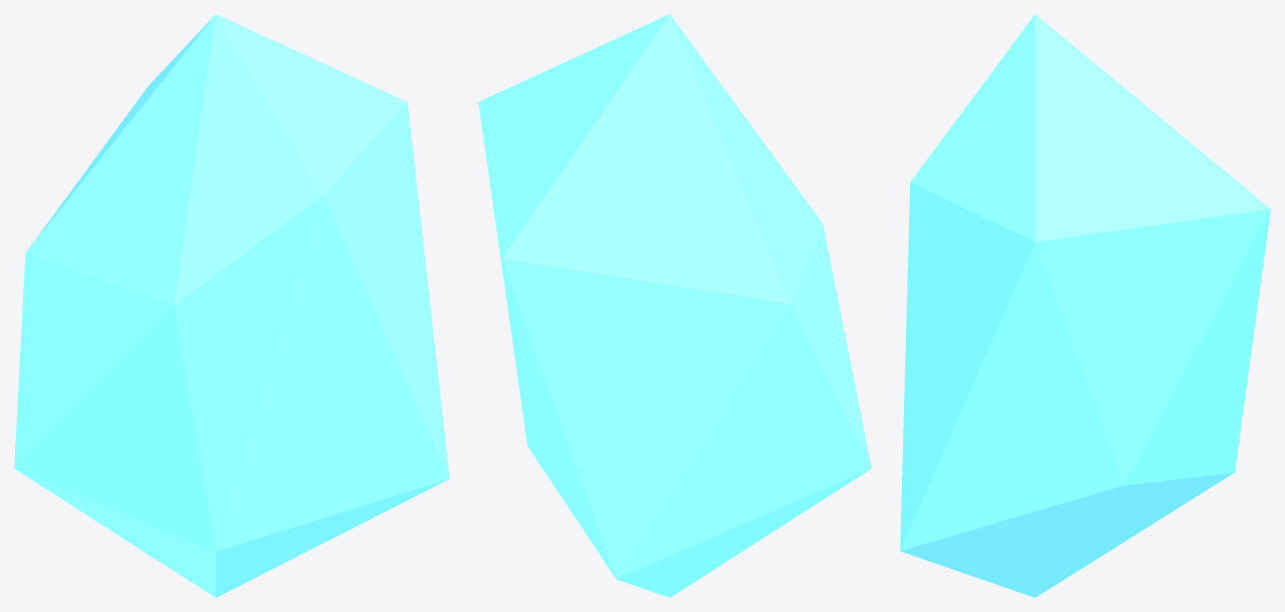
The model's file is core_fragment_1.glb.
The picture shows the model from 3 angles, left to right: view 1: azimuth 30°, elevation 25°; view 2: azimuth 150°, elevation 25°; view 3: azimuth 270°, elevation 25°; orthographic projection.
Parts seen in each view (by area): view 1: core_fragment_1; view 2: core_fragment_1; view 3: core_fragment_1.
Part boxes in pixels (x1=…): core_fragment_1: x1=14, y1=14, x2=449, y2=597; core_fragment_1: x1=478, y1=14, x2=871, y2=597; core_fragment_1: x1=900, y1=14, x2=1270, y2=597.
Size of the model in its own units: 0.1728 by 0.2451 by 0.1411.
